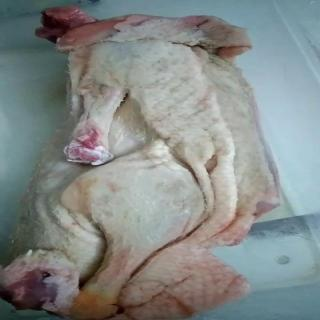Ayam: (1, 5, 281, 320)
